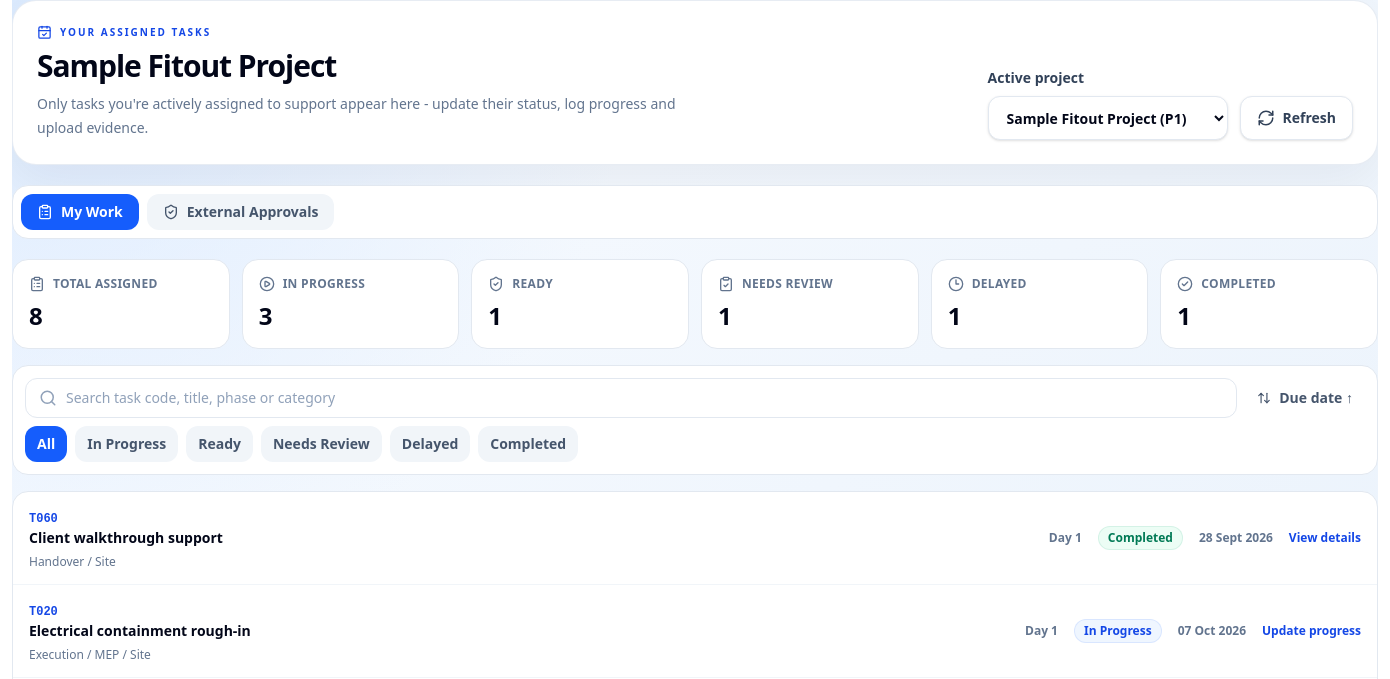
Test: ExecutionPage smoke - realistic mixed task shapes render without throwing › renders My Assigned Work for an Internal Employee and opens the Action View
This screenshot has width=1390, height=679.
Expected: the element named "my work summary" is shown, [12, 259, 1378, 349]
Click the text "Electrical containment rough-in". click: (140, 630)
box: [29, 621, 251, 640]
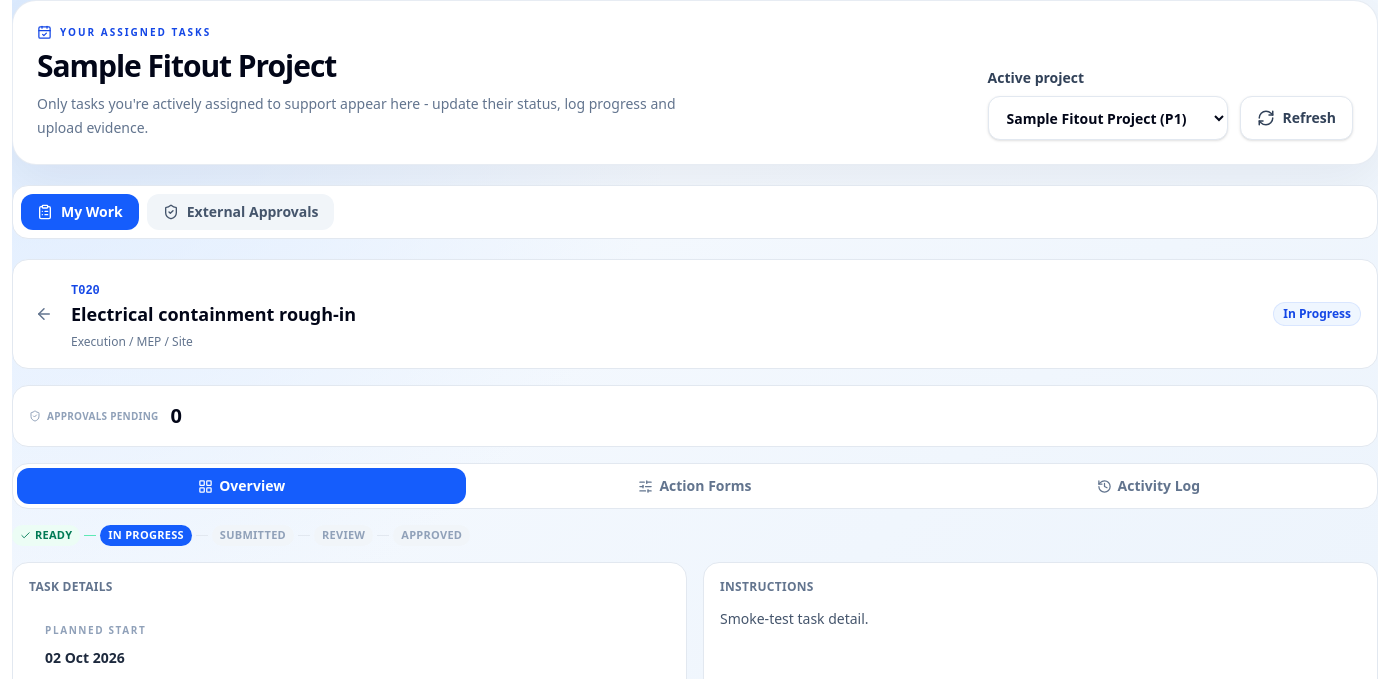
Expected: the button named "back to my assigned work" is shown, [29, 299, 59, 329]
